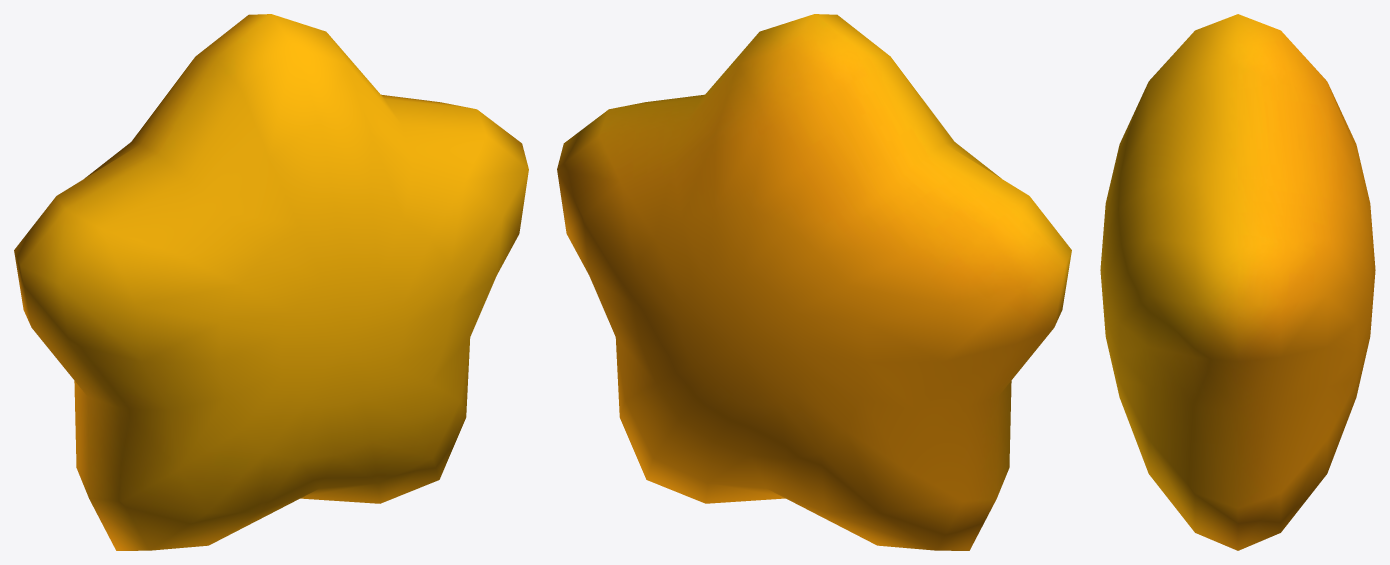
File: puffy-star.glb
3 renders of one model, left to right at view 1: azimuth 30°, elevation 25°; view 2: azimuth 150°, elevation 25°; view 3: azimuth 270°, elevation 25°, orthographic. The views are drawn at different scales.
Size of the model in its own units: 1 by 0.9679 by 0.5083.
Materials: 1 (1 with a texture image).
